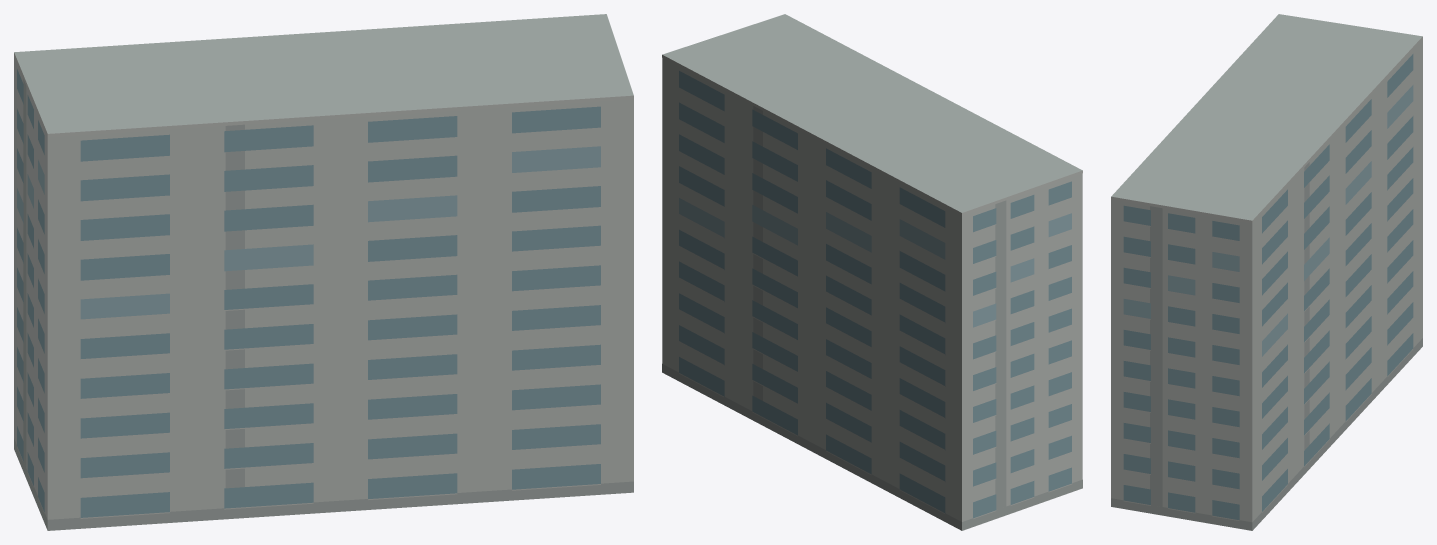
Rendered from survey-upis-33016224.glb.
The picture shows the model from 3 angles, left to right: view 1: azimuth 30°, elevation 25°; view 2: azimuth 150°, elevation 25°; view 3: azimuth 270°, elevation 25°; orthographic projection. The views are drawn at different scales.
Parts seen in each view (by area): view 1: survey-upis-33016224.tmp; view 2: survey-upis-33016224.tmp; view 3: survey-upis-33016224.tmp.
Boxes of the visible parts, x1=… form: survey-upis-33016224.tmp: x1=14, y1=14, x2=633, y2=530; survey-upis-33016224.tmp: x1=662, y1=14, x2=1082, y2=530; survey-upis-33016224.tmp: x1=1111, y1=14, x2=1422, y2=530.
Size of the model in its own units: 38.17 by 26.7 by 24.33.
